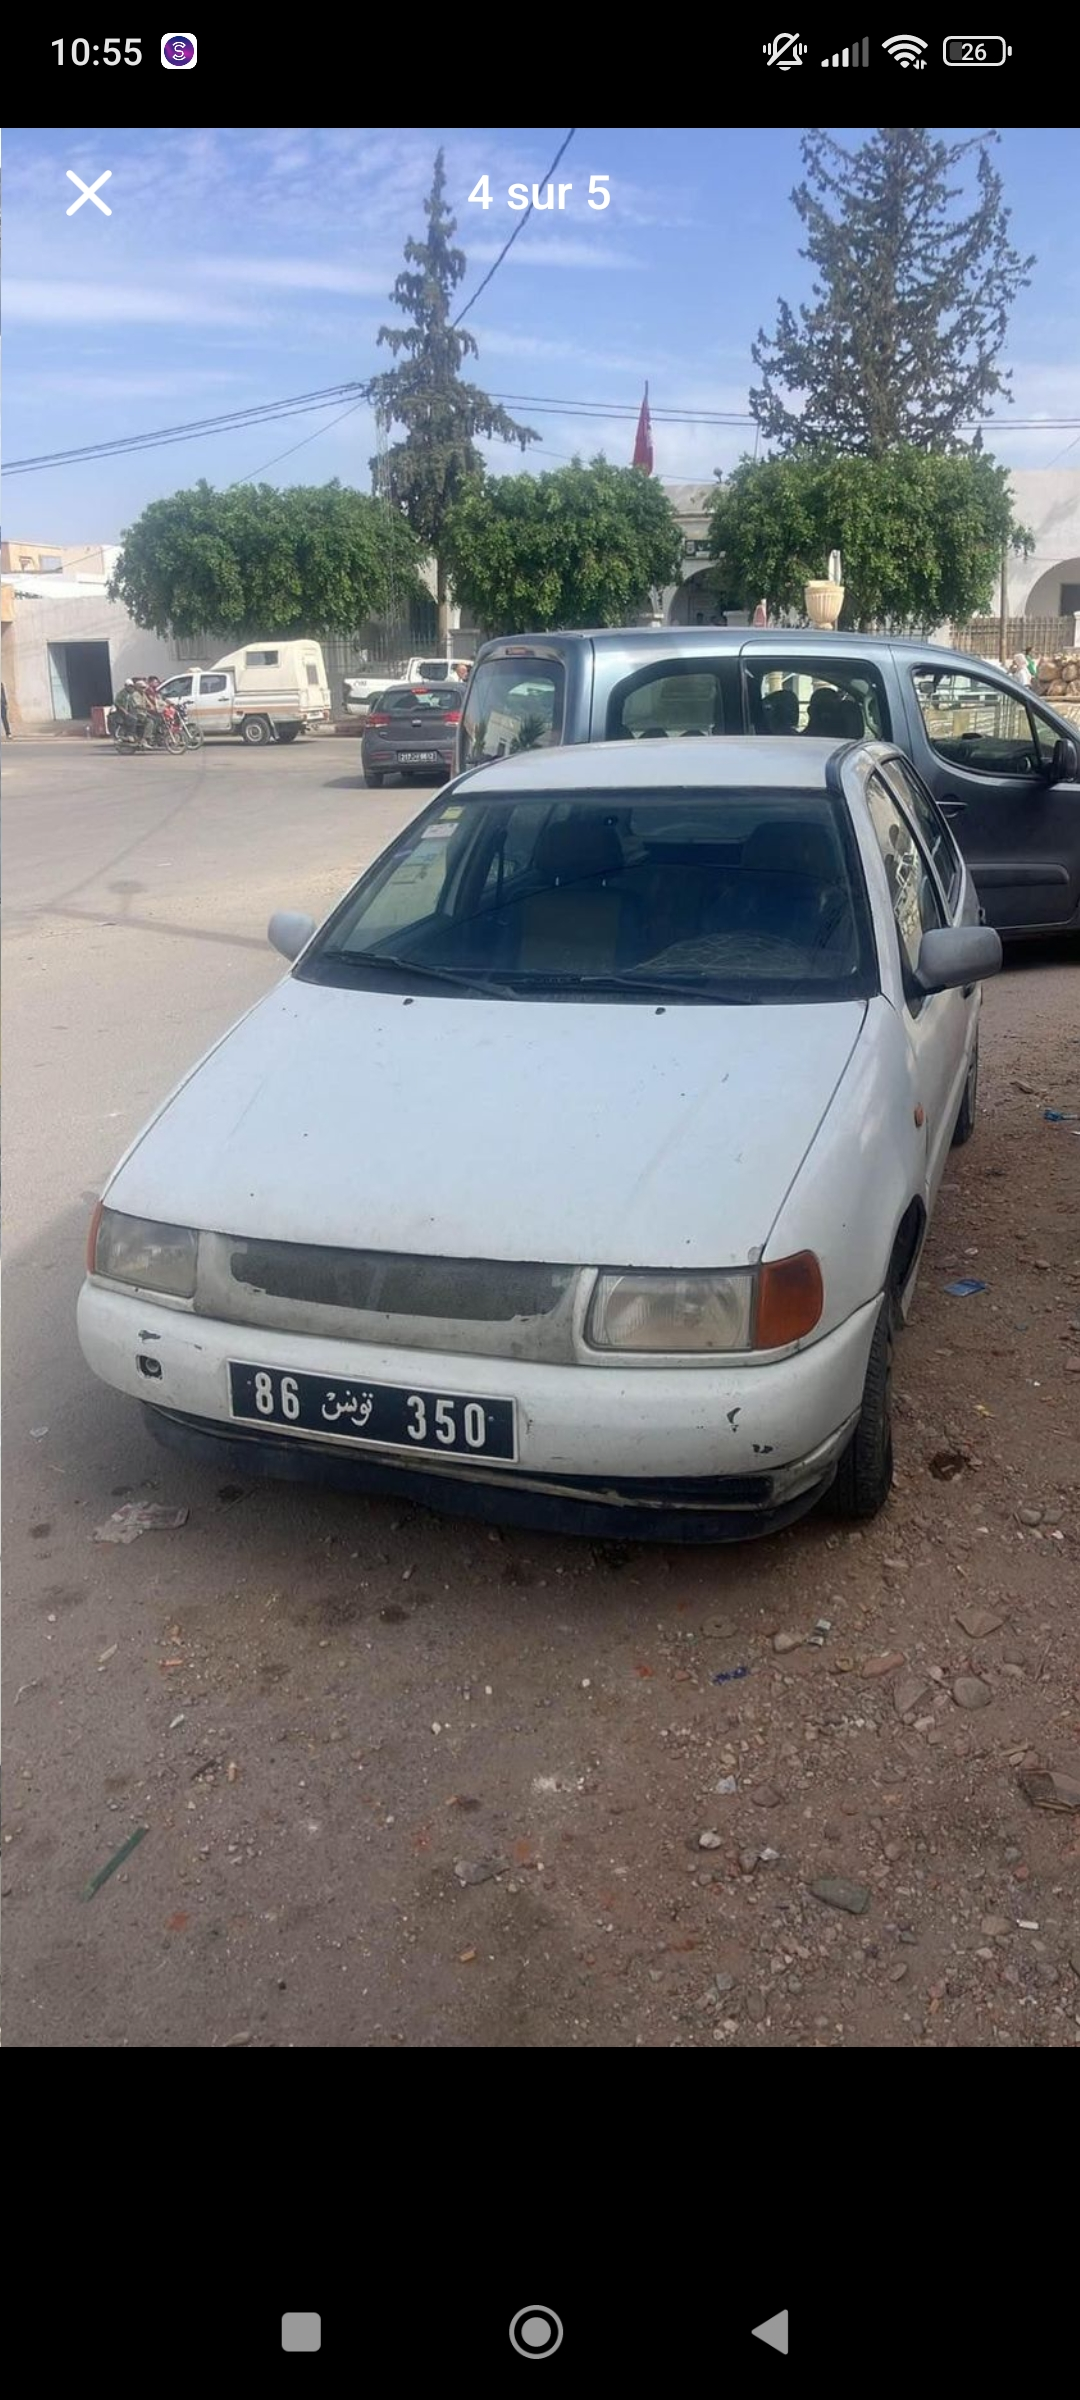14: (80, 712, 994, 1607), (376, 683, 460, 787)
volkswagen: (112, 643, 333, 739)
